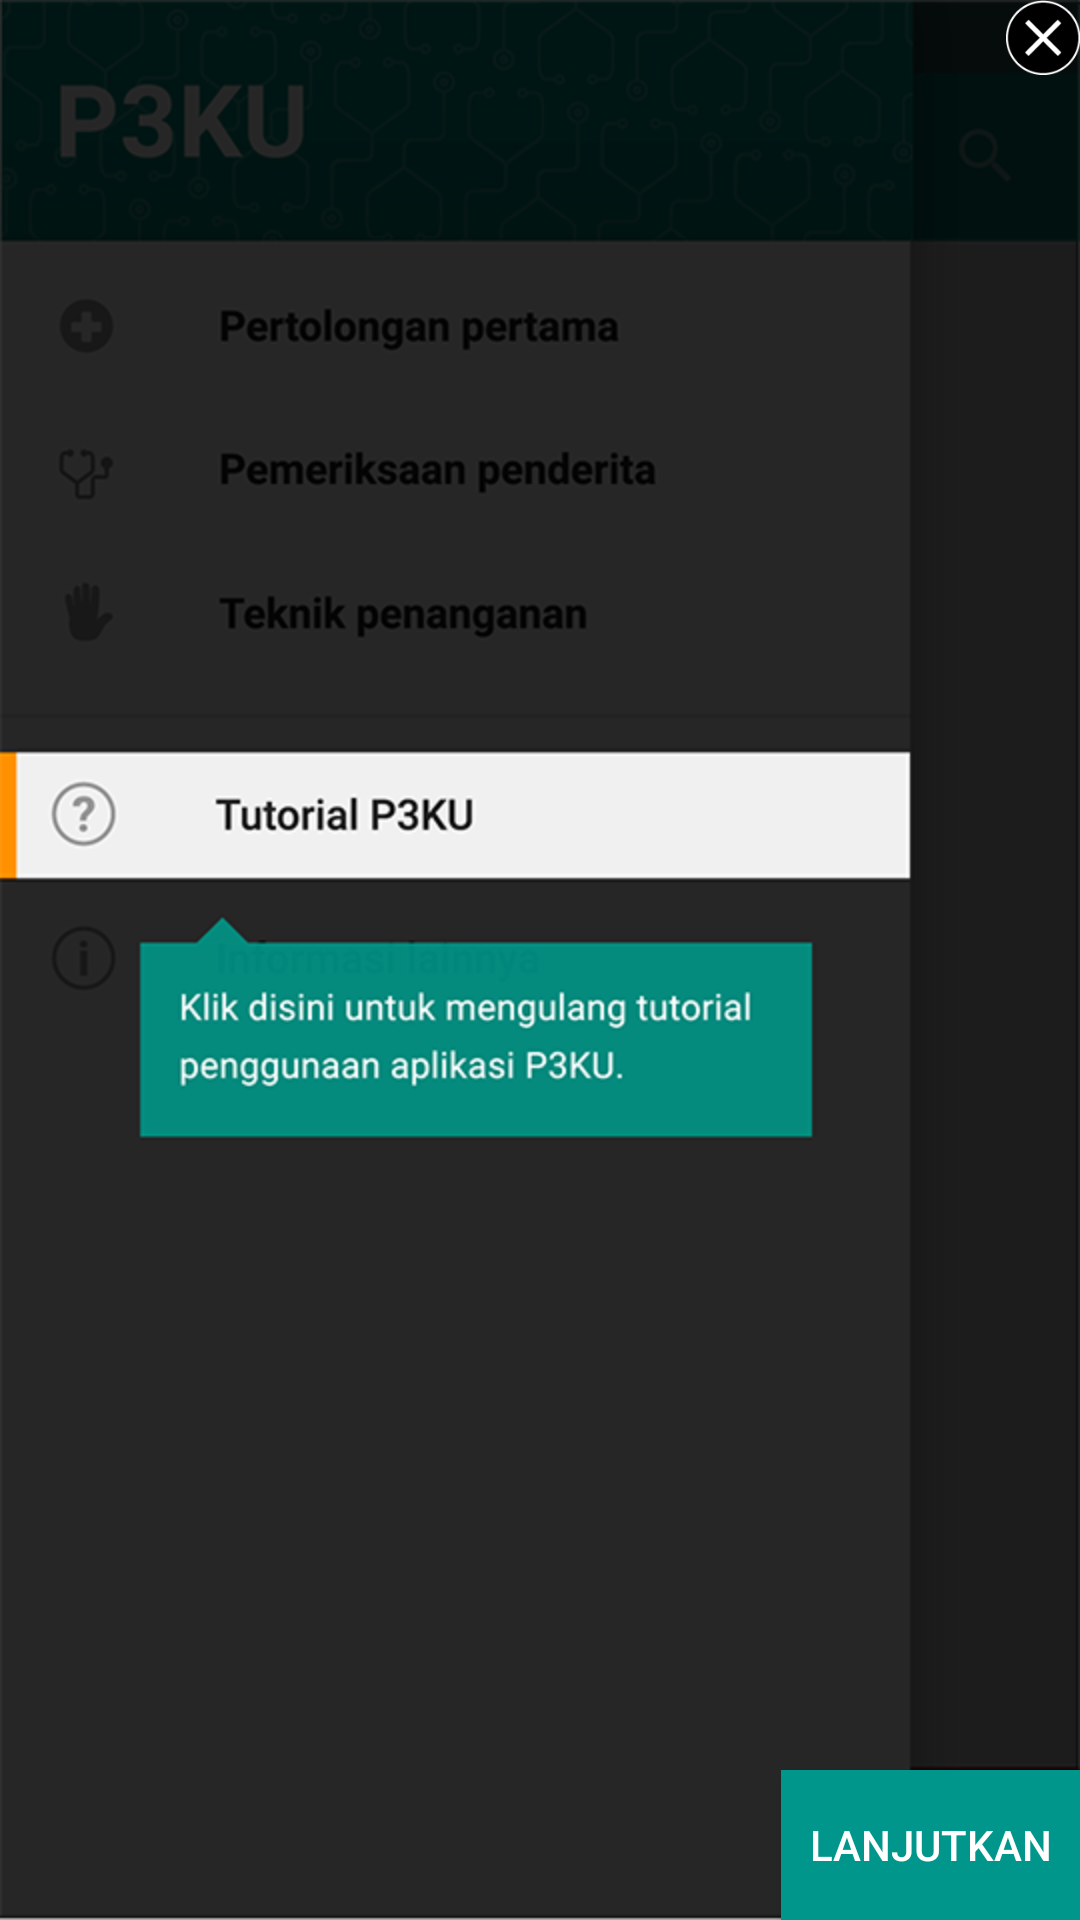

Point at icon controls on the screen. Image size 1080w x 1920h, points as (x,y).
close tutorial: (1043,37)
